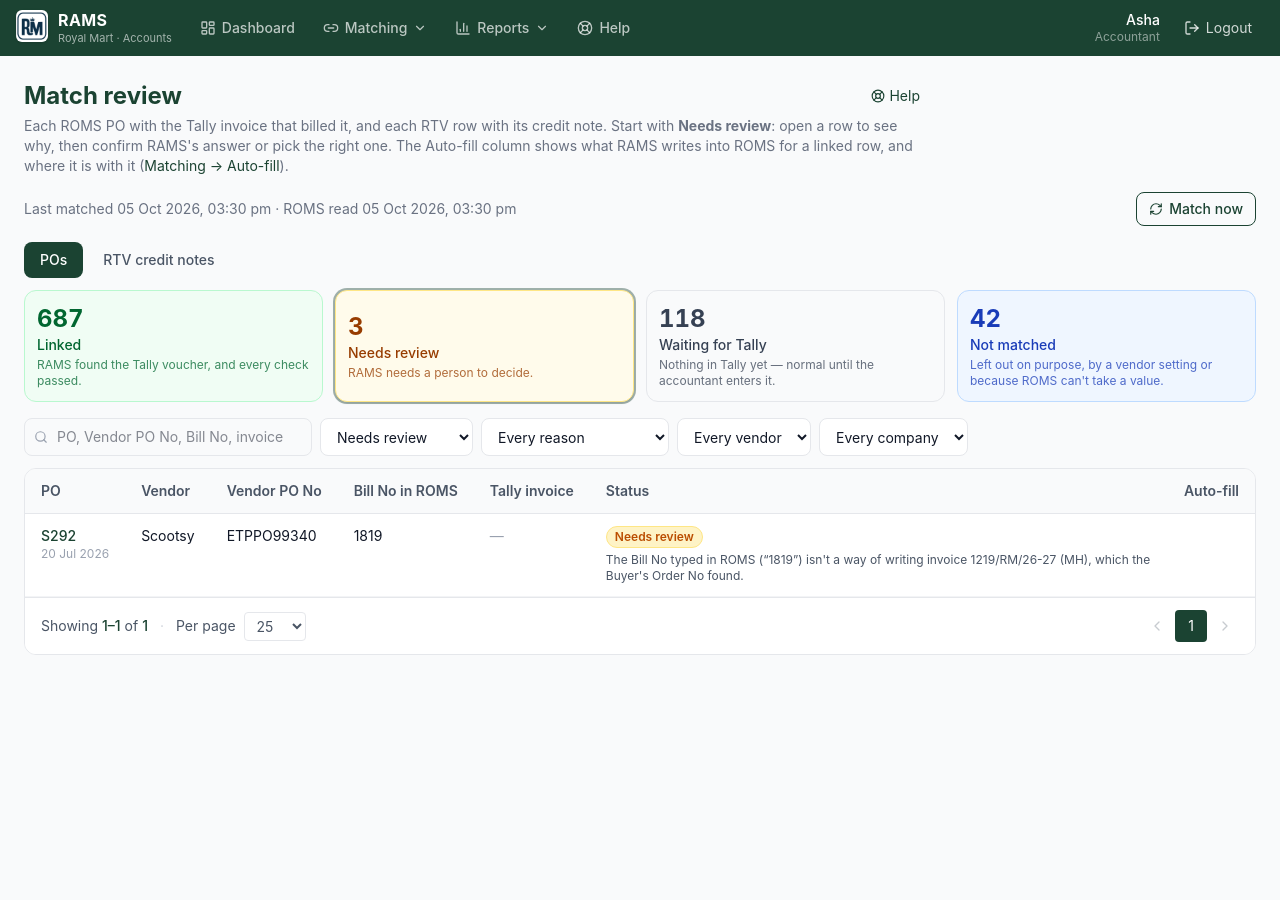
Scenario: Match review › opens on Needs review, explains each row, and a tile switches the list
expect the text "isn't a way of writing invoice 1219/RM/26-27 (MH)" is shown: met, box 606,552 -> 1150,583
expect the text "687" is shown: met, box 37,304 -> 84,333
Click the button "687 Linked". click: (60, 318)
box: 24,290 -> 323,402
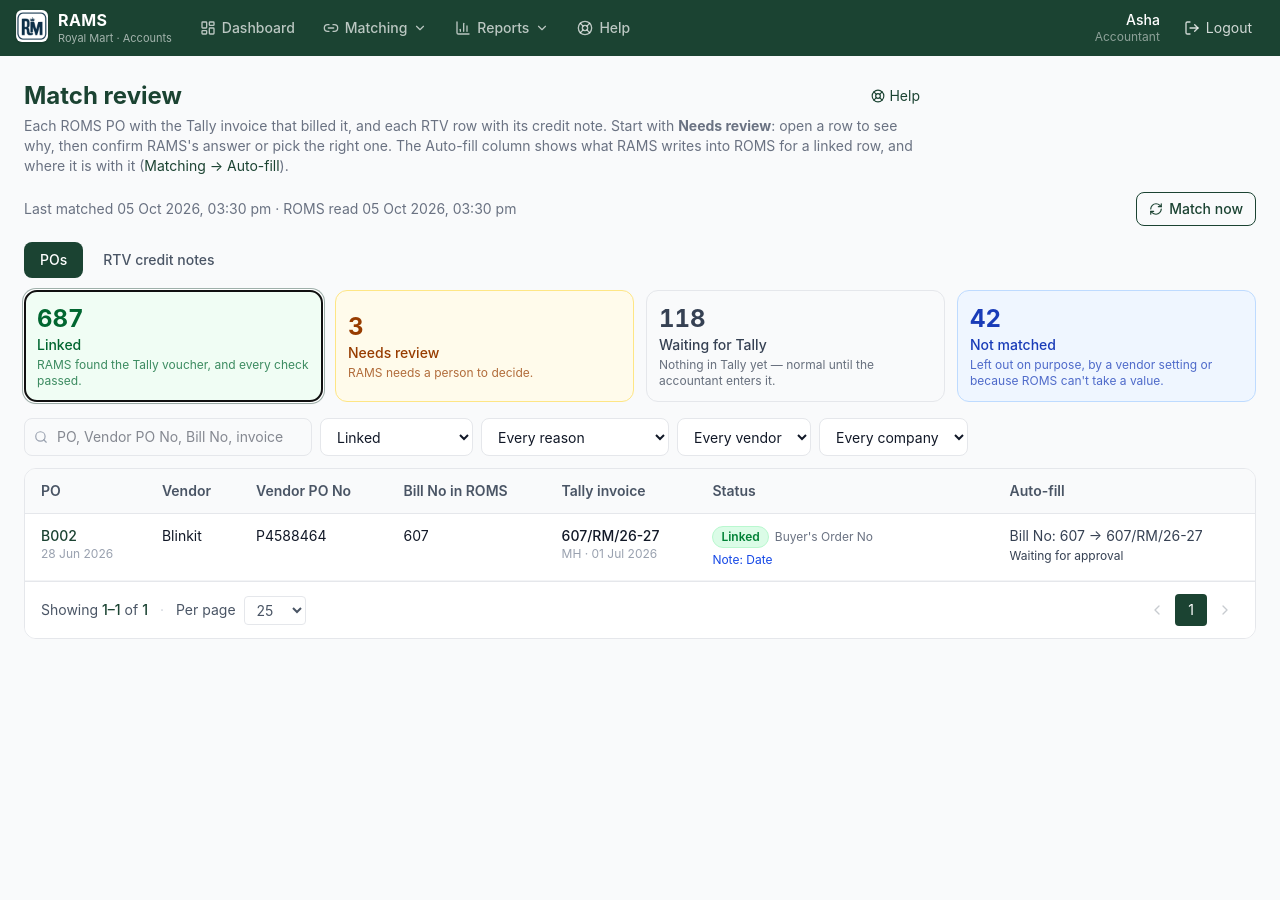
expect the text "Bill No: 607 → 607/RM/26-27" is shown: met, box 1010,527 -> 1203,544
expect the text "Waiting for approval" is shown: met, box 1010,548 -> 1123,563
expect the text "Note: Date" is shown: met, box 712,552 -> 772,567
